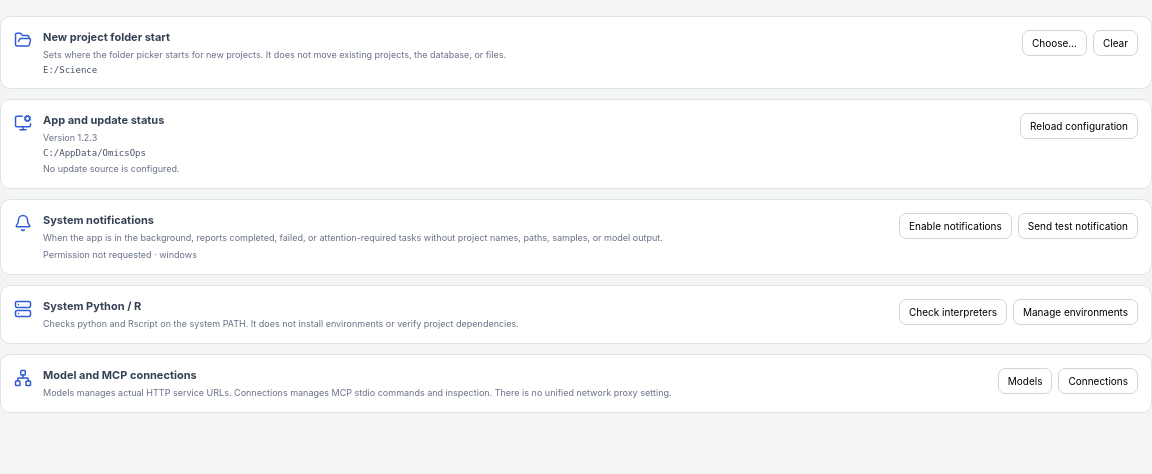
Test: GeneralAdvancedSettings › probes only through the fixed host command and states that dependencies remain unverified
Expected: the text "System Python / R" is shown, [43, 299, 141, 313]
Click the button "Check interpreters" at (953, 312), box [899, 299, 1007, 325]
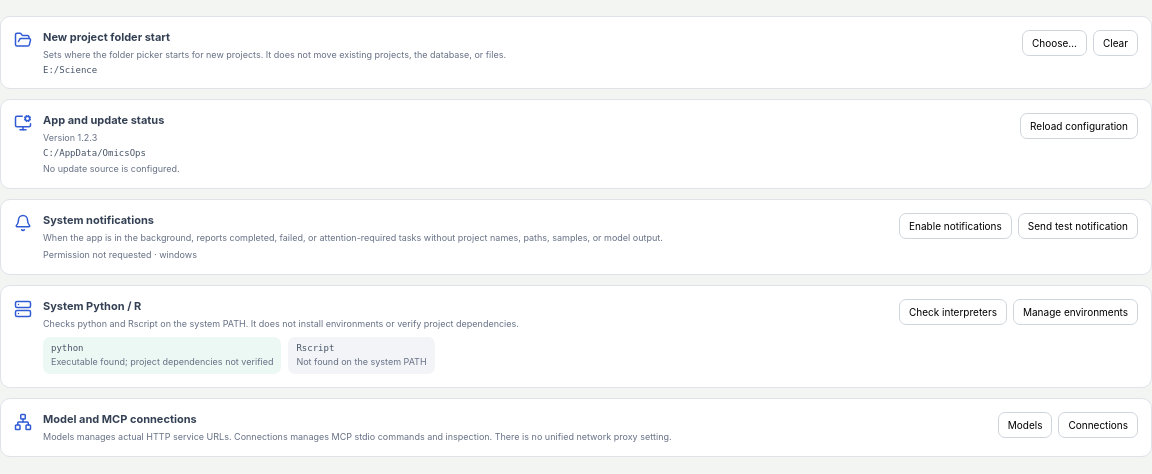
Now the text "Executable found; project dependencies not verified" is shown, box [51, 355, 273, 368]
Now the text "Not found on the system PATH" is shown, box [296, 355, 427, 368]
